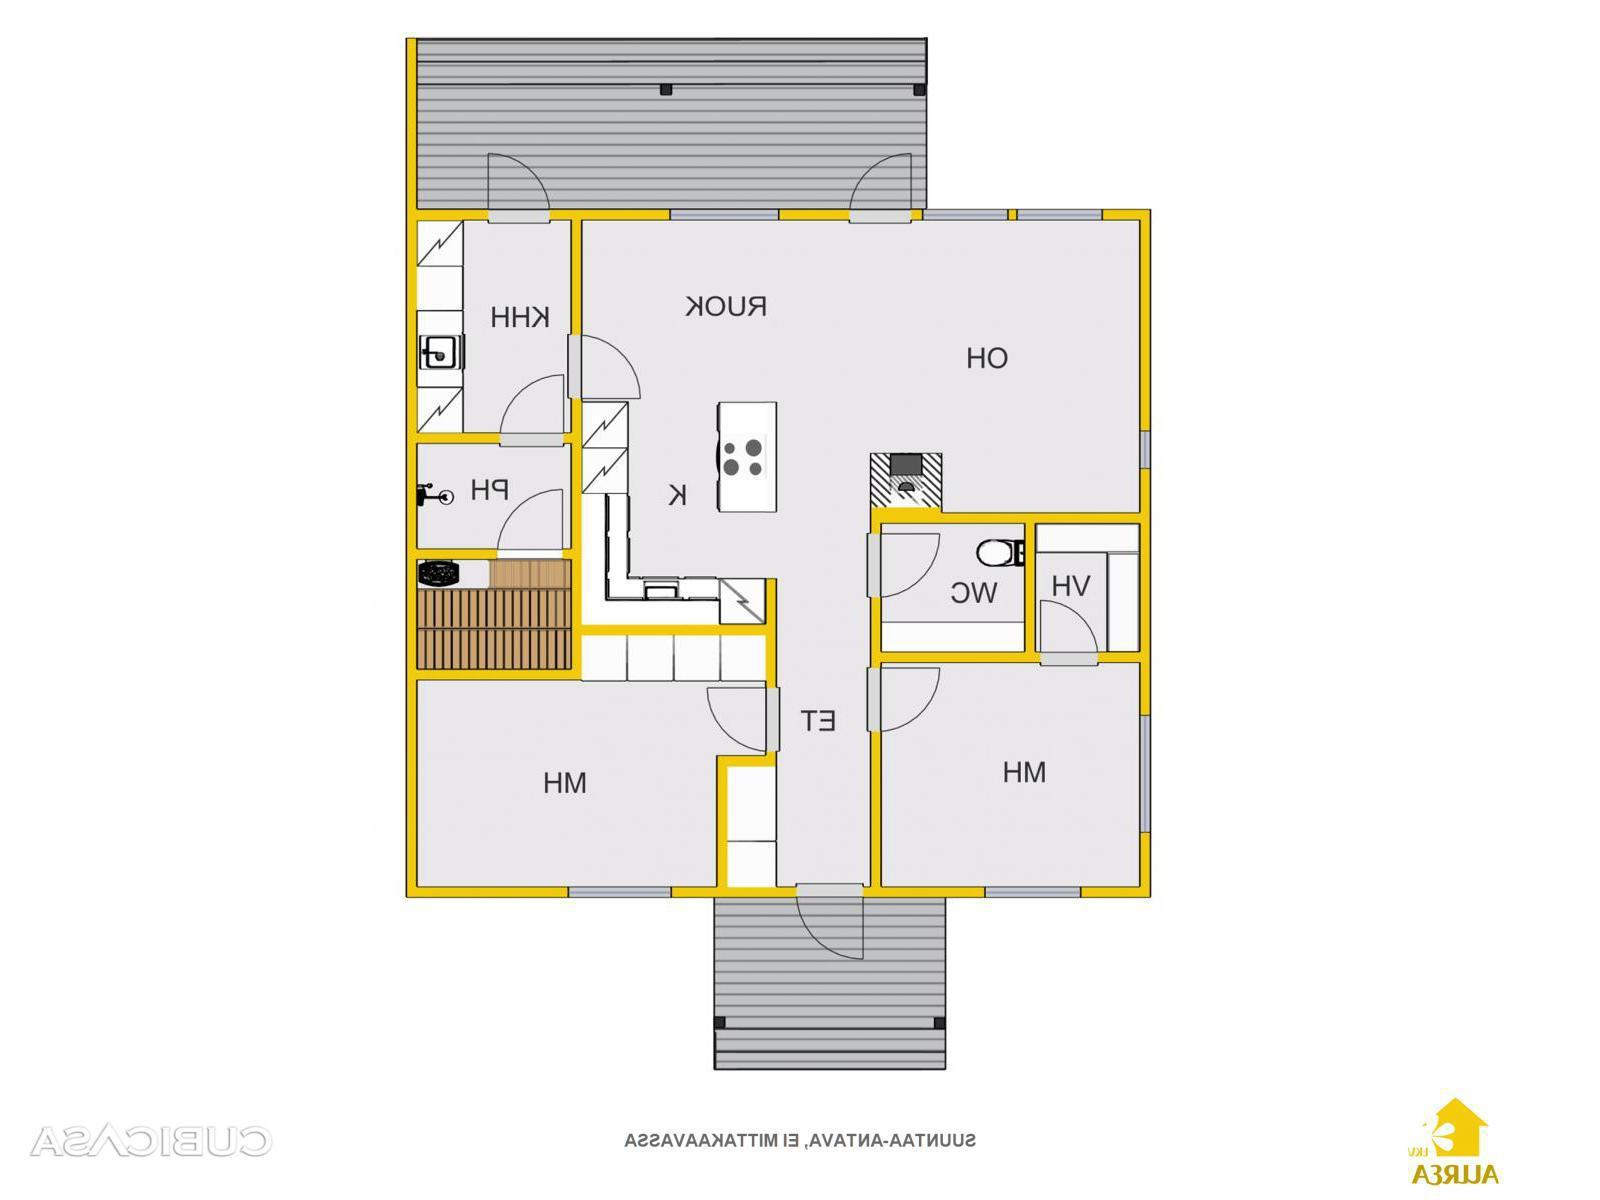door: (780, 875, 867, 962), (840, 146, 920, 228), (700, 681, 787, 754), (860, 526, 947, 599), (495, 371, 569, 454), (491, 483, 564, 567), (564, 329, 646, 400), (481, 149, 552, 227), (867, 664, 945, 735), (1037, 597, 1102, 673)
window: (1133, 702, 1160, 845), (556, 880, 690, 906), (663, 202, 792, 227), (1010, 199, 1117, 227), (915, 202, 1015, 229), (975, 881, 1092, 901), (1133, 418, 1157, 482)
